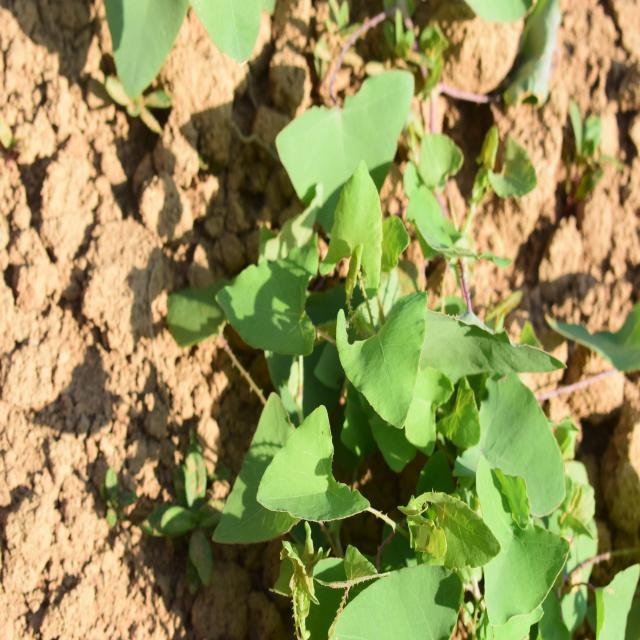Asiatic_Smartweed: (235, 59, 453, 410), (410, 347, 580, 629), (193, 374, 390, 556)
